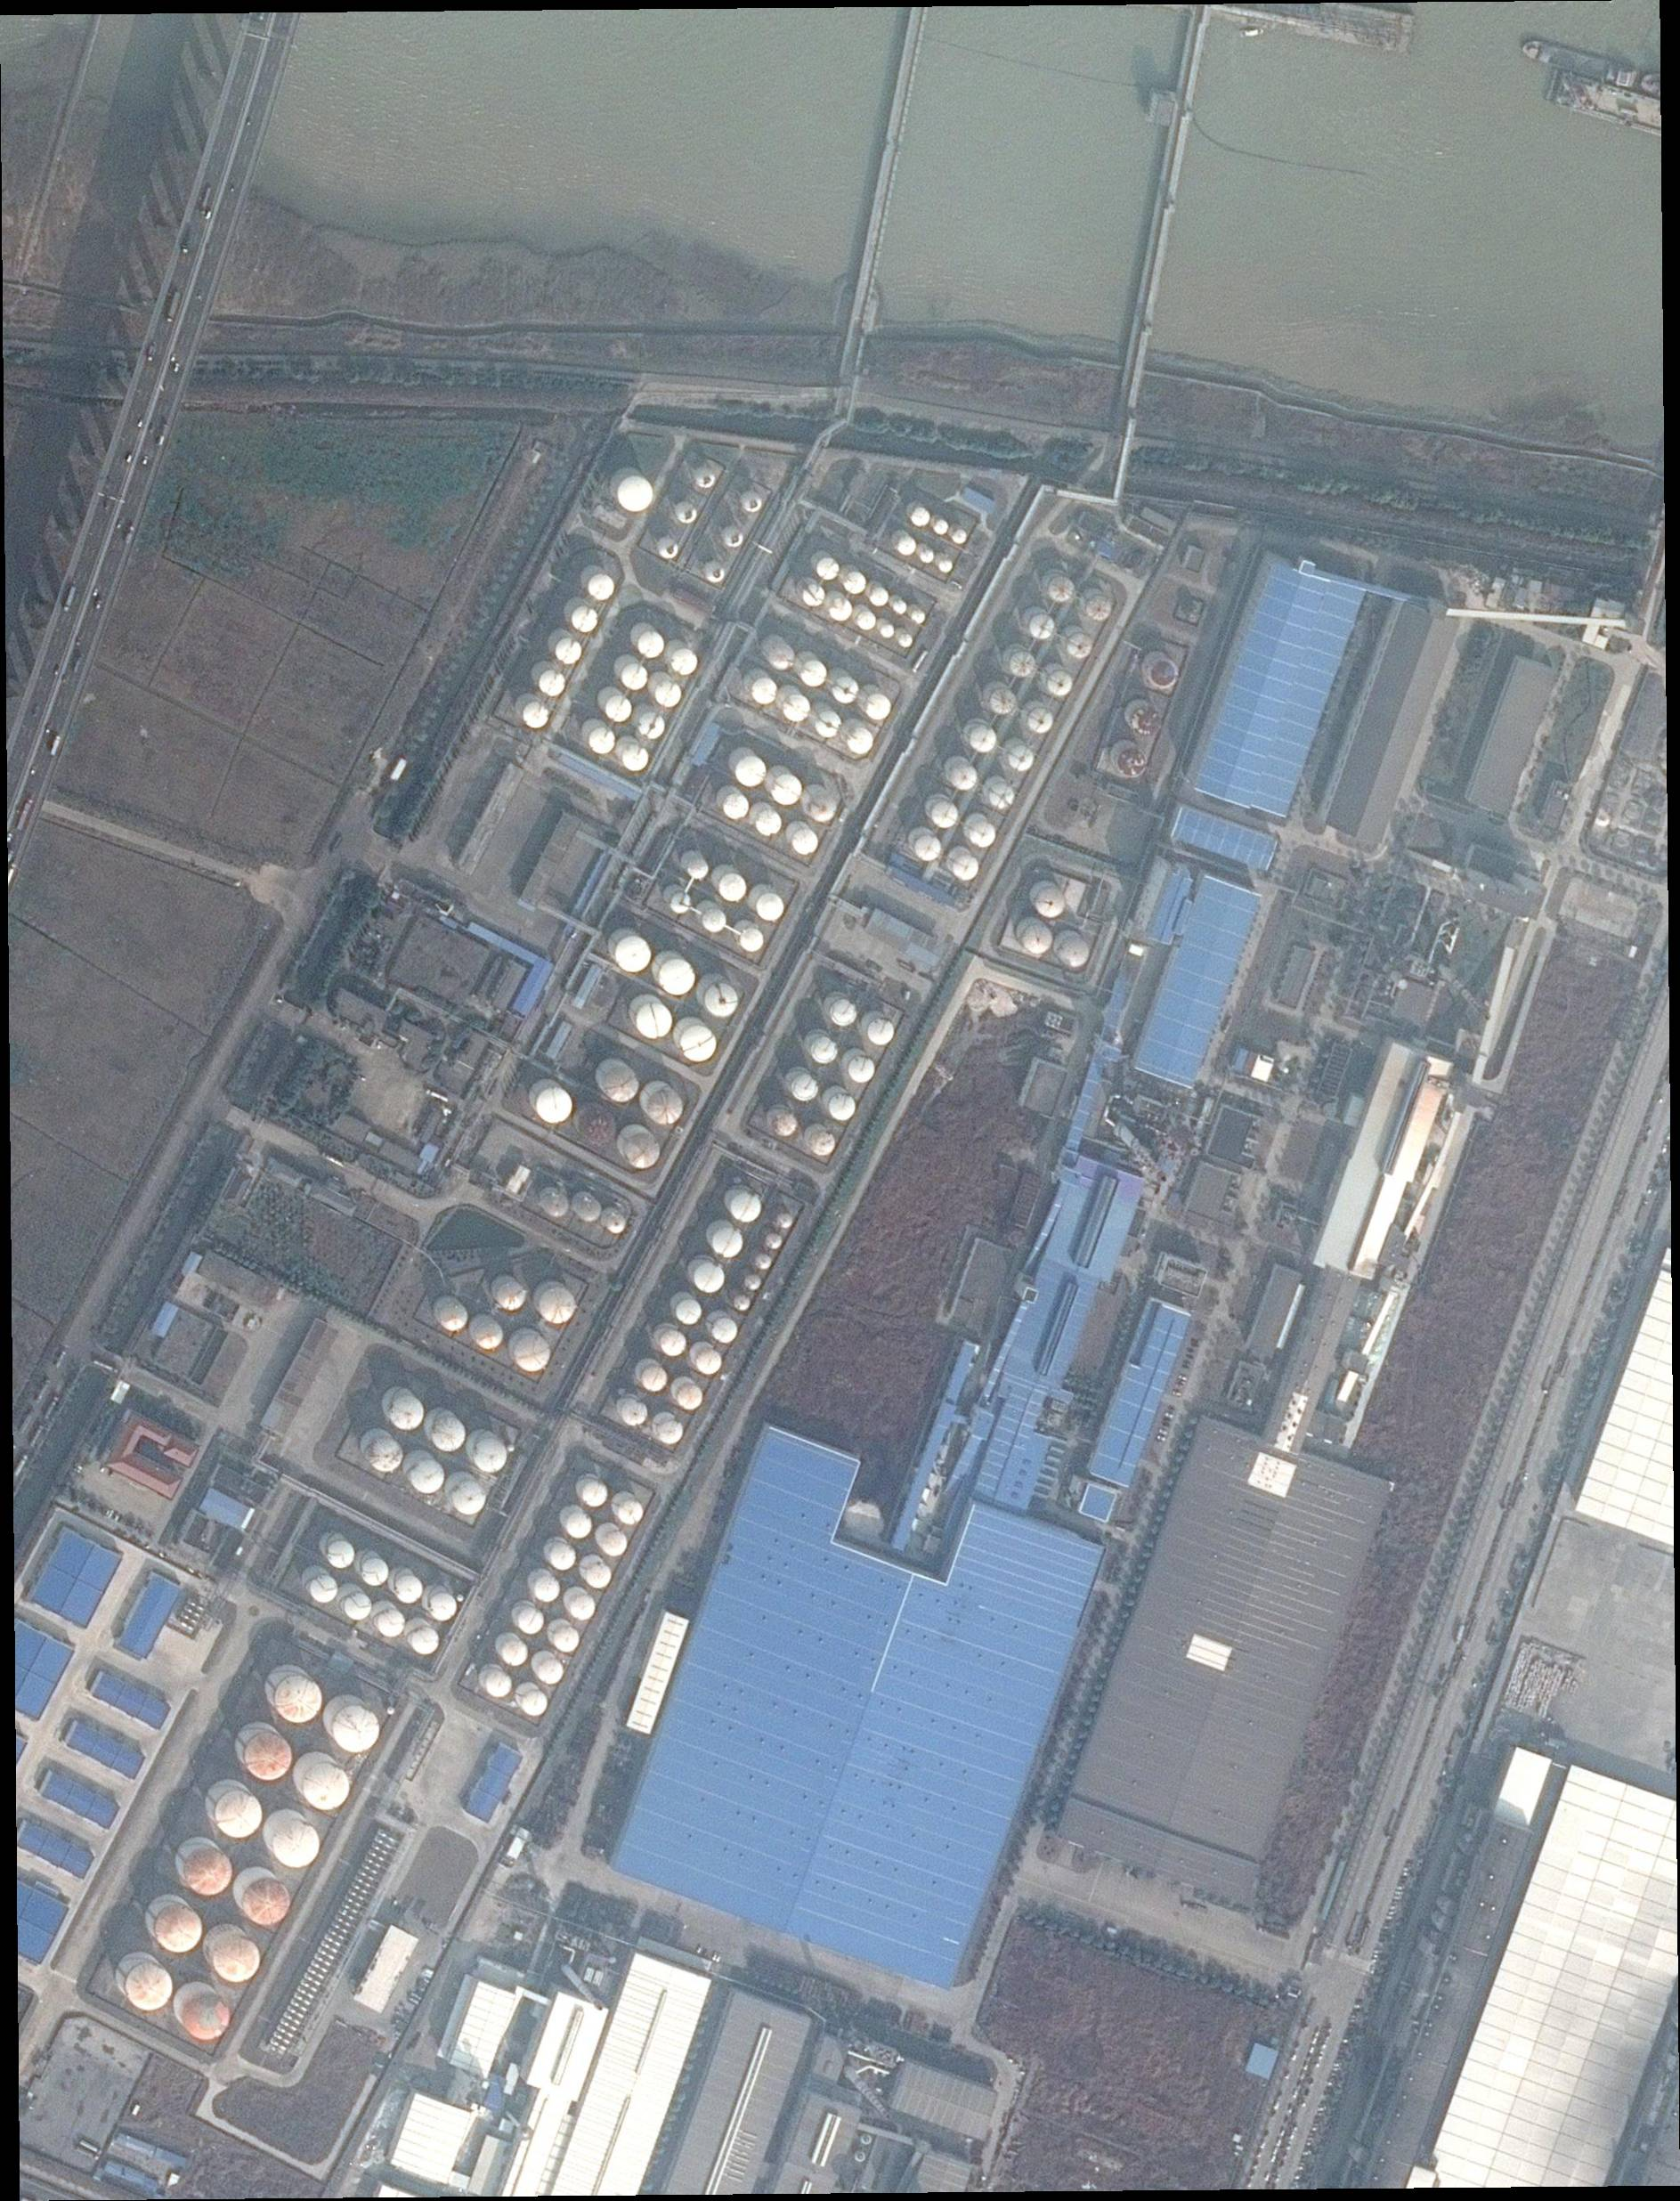large vehicle: (16, 798, 34, 831), (166, 291, 180, 323), (64, 586, 78, 612), (199, 187, 212, 215), (49, 734, 62, 755)
ship: (1521, 37, 1639, 90)
storage tank: (274, 1675, 323, 1724), (244, 1732, 291, 1781), (182, 1994, 231, 2042), (274, 1822, 321, 1869), (215, 1790, 263, 1837), (185, 1848, 233, 1896), (155, 1906, 203, 1954), (125, 1963, 173, 2010), (304, 1762, 349, 1811), (334, 1705, 379, 1753), (245, 1880, 291, 1927), (215, 1938, 259, 1984), (540, 1287, 577, 1324), (514, 1334, 551, 1371), (658, 958, 695, 995), (616, 935, 651, 974), (637, 1003, 672, 1040), (579, 1108, 616, 1144), (536, 1087, 572, 1124), (604, 1064, 637, 1103), (681, 1025, 716, 1061), (648, 1089, 683, 1124), (619, 477, 653, 514), (625, 1135, 660, 1168), (452, 1481, 485, 1516), (390, 1396, 424, 1431), (369, 1439, 404, 1472), (706, 983, 739, 1017), (475, 1440, 508, 1474), (432, 1417, 466, 1451), (411, 1460, 445, 1493), (695, 1262, 725, 1294), (711, 1227, 743, 1257), (731, 1193, 762, 1223), (1036, 886, 1066, 918), (736, 755, 766, 787), (773, 775, 803, 807), (309, 1574, 339, 1604), (438, 1303, 468, 1333), (1061, 937, 1091, 967), (473, 1322, 505, 1350), (498, 1280, 526, 1311), (1020, 925, 1052, 953), (718, 872, 746, 902), (394, 1576, 424, 1604), (755, 891, 784, 921), (1133, 708, 1163, 736), (784, 694, 812, 724), (808, 794, 836, 824), (344, 1592, 372, 1620), (326, 1541, 355, 1569), (988, 782, 1016, 810), (1149, 660, 1177, 688), (588, 727, 616, 755), (605, 695, 634, 724), (671, 648, 699, 676), (588, 574, 616, 602), (413, 1626, 439, 1656), (431, 1592, 457, 1622), (829, 997, 856, 1027), (676, 1297, 702, 1326), (565, 1513, 593, 1539), (517, 1608, 545, 1634), (522, 1689, 549, 1717), (378, 1610, 404, 1638), (792, 1073, 819, 1101), (932, 801, 958, 830), (847, 1055, 875, 1082), (812, 1036, 838, 1064), (829, 1093, 856, 1121), (971, 725, 997, 754), (1048, 575, 1075, 604), (1046, 669, 1073, 697), (1119, 748, 1147, 775), (990, 687, 1016, 715), (637, 713, 665, 740), (572, 605, 598, 634), (865, 694, 891, 722), (833, 676, 859, 704), (660, 1331, 686, 1357), (678, 1384, 704, 1410), (656, 1419, 683, 1446), (549, 1544, 575, 1571), (570, 1594, 596, 1620), (362, 1559, 388, 1585), (503, 1640, 529, 1666), (485, 1670, 512, 1696), (953, 854, 979, 881), (914, 835, 941, 861), (868, 1018, 895, 1045), (810, 1130, 836, 1156), (969, 821, 995, 847), (1085, 595, 1112, 621), (1009, 651, 1036, 678), (1027, 708, 1054, 734), (1008, 745, 1034, 771), (623, 745, 649, 771), (655, 681, 681, 708), (637, 632, 664, 658), (556, 639, 582, 665), (540, 671, 566, 697), (801, 660, 828, 687), (755, 810, 782, 837), (600, 1532, 628, 1557), (544, 1190, 568, 1218), (535, 1576, 559, 1604), (623, 662, 648, 690), (724, 793, 748, 821), (641, 1366, 667, 1391), (713, 1318, 738, 1345), (623, 1400, 648, 1426), (586, 1564, 612, 1589), (575, 1197, 602, 1221), (554, 1626, 579, 1652), (538, 1659, 565, 1684), (524, 702, 549, 729), (771, 1114, 798, 1138), (951, 764, 978, 789), (1066, 634, 1092, 658), (847, 729, 874, 754), (815, 713, 842, 738), (752, 678, 776, 704), (794, 830, 819, 856), (697, 1350, 722, 1375), (619, 1500, 644, 1525), (582, 1483, 607, 1507), (702, 909, 727, 934), (1029, 616, 1054, 641), (771, 646, 794, 671), (741, 928, 764, 951), (676, 503, 699, 526), (829, 598, 852, 621), (844, 572, 866, 595), (817, 558, 840, 581), (686, 858, 709, 879), (704, 561, 725, 584), (741, 491, 762, 514), (722, 526, 745, 547), (803, 584, 824, 607), (695, 468, 716, 489), (658, 538, 679, 560), (671, 891, 690, 914), (911, 507, 930, 528), (898, 535, 918, 556), (870, 586, 889, 607), (607, 1214, 626, 1234), (858, 611, 877, 630), (745, 1274, 762, 1290), (734, 1294, 750, 1311), (766, 1234, 782, 1250), (778, 1213, 794, 1228), (934, 519, 949, 535), (757, 1253, 771, 1269), (953, 530, 967, 545), (941, 558, 955, 574), (900, 634, 914, 650), (912, 609, 926, 625), (893, 600, 907, 616), (921, 549, 935, 563), (859, 2132, 874, 2146), (881, 625, 895, 639), (854, 2150, 865, 2162), (1398, 980, 1408, 990)
